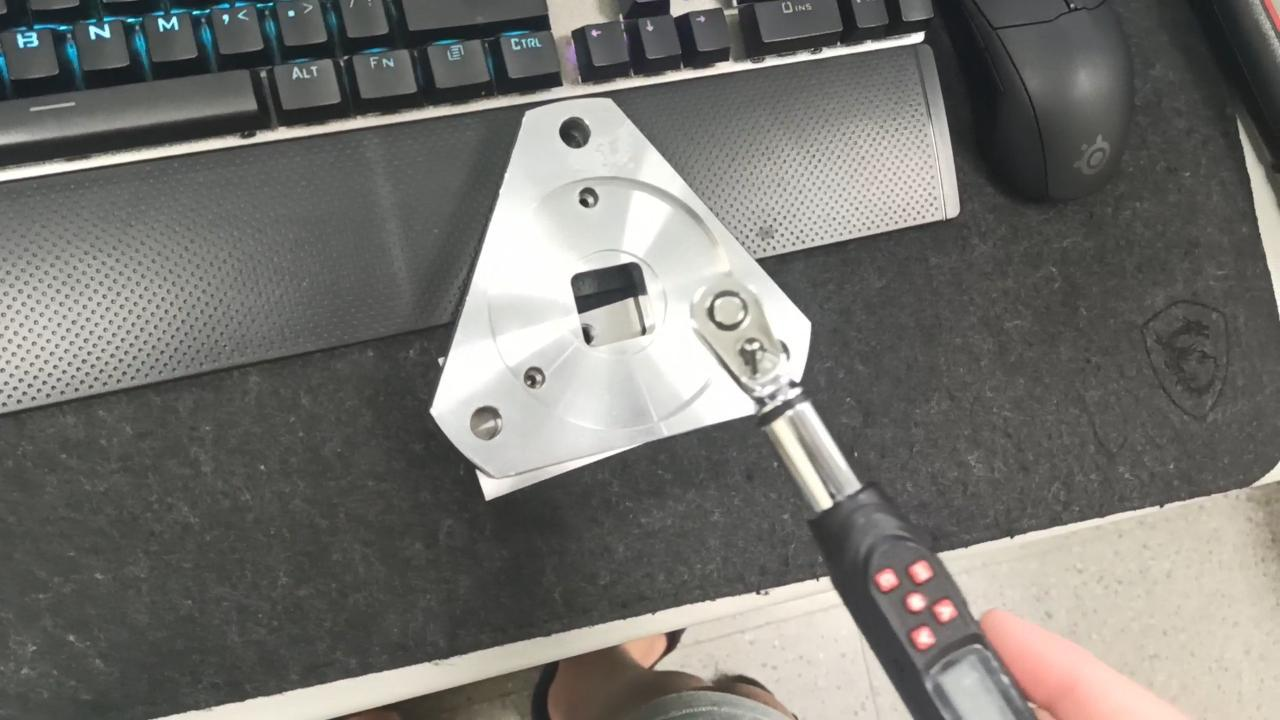Tool: (689, 267, 802, 395)
